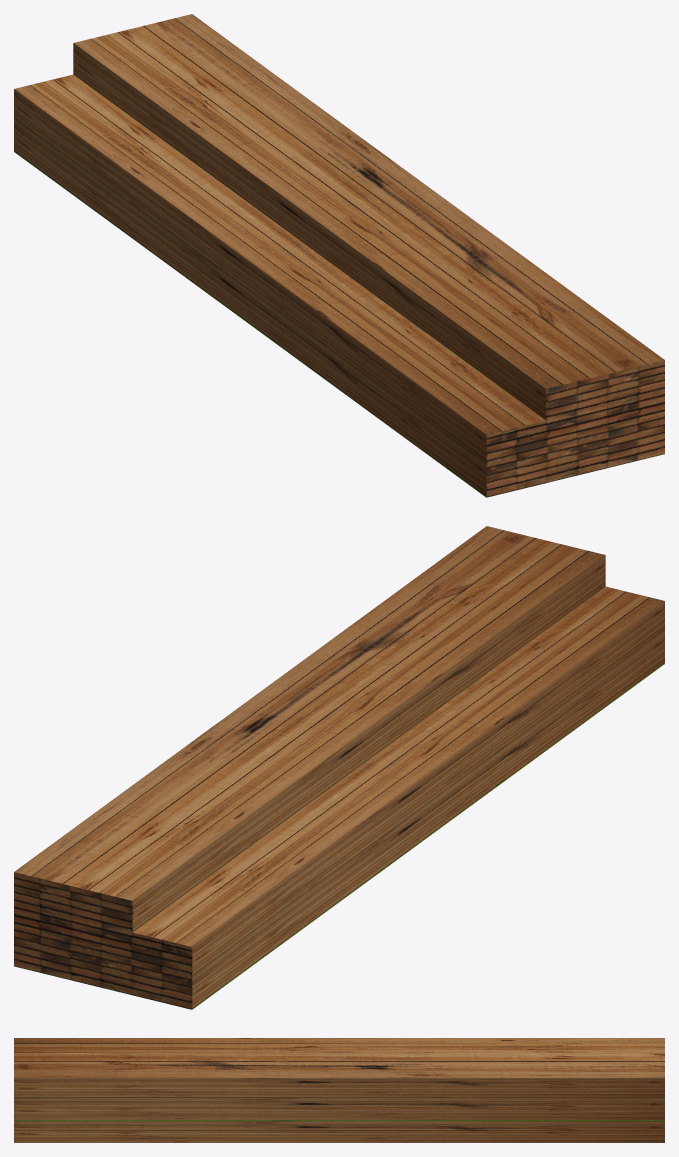
The model's file is madera.dae.
The picture shows the model from 3 angles, top to bottom: view 1: azimuth 30°, elevation 25°; view 2: azimuth 150°, elevation 25°; view 3: azimuth 270°, elevation 25°; orthographic projection. The views are drawn at different scales.
Visible parts, largest first — view 1: Box001; view 2: Box001; view 3: Box001.
Boxes of the visible parts, x1=… form: Box001: x1=14, y1=14, x2=664, y2=497; Box001: x1=14, y1=526, x2=664, y2=1009; Box001: x1=14, y1=1038, x2=664, y2=1142.
Bounding box in the file's own units: 0.9985 × 4.59 × 0.5055.
1 material, 1 textured.
